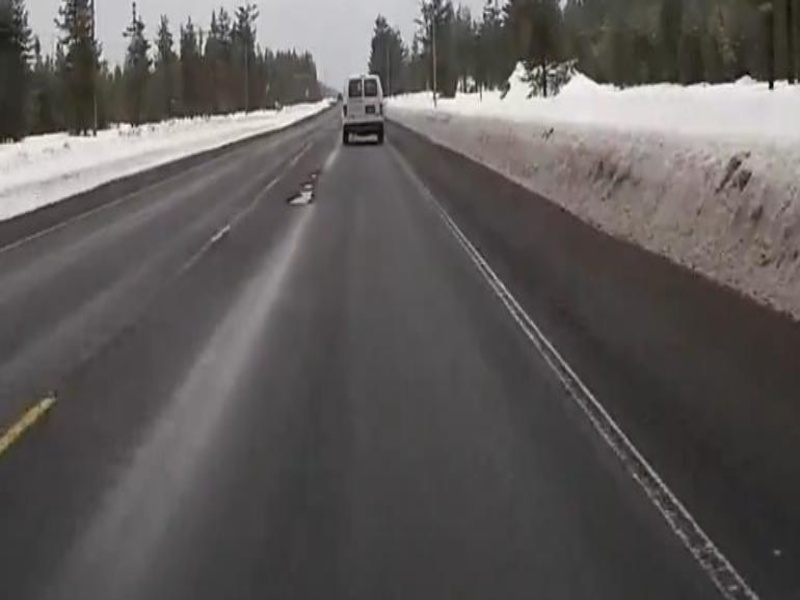pothole: (287, 187, 318, 207)
